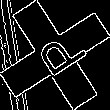P_SW: (24, 26, 86, 84)
